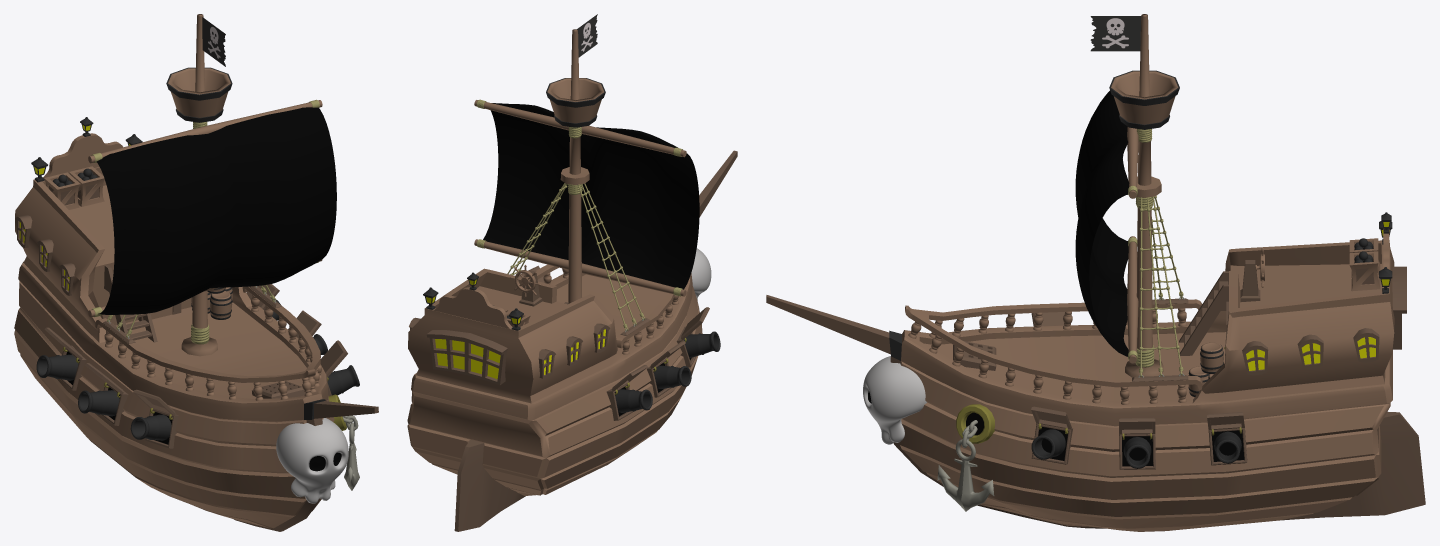
File: Island_Ship_final.fbx
The picture shows the model from 3 angles, left to right: view 1: azimuth 30°, elevation 25°; view 2: azimuth 150°, elevation 25°; view 3: azimuth 270°, elevation 25°; orthographic projection. The views are drawn at different scales.
Visible parts, largest first — view 1: polySurface803, polySurface374; view 2: polySurface803, polySurface374; view 3: polySurface803, polySurface374.
Boxes of the visible parts, box(x1,y1,x2,y2) form: polySurface803: box(14, 14, 378, 531); polySurface374: box(202, 17, 225, 66); polySurface803: box(407, 29, 737, 531); polySurface374: box(577, 14, 597, 57); polySurface803: box(766, 14, 1425, 531); polySurface374: box(1090, 16, 1140, 51).
Size of the model in its own units: 1531 by 2893 by 3364.
